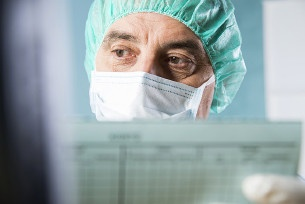Mask: (89, 28, 229, 166)
